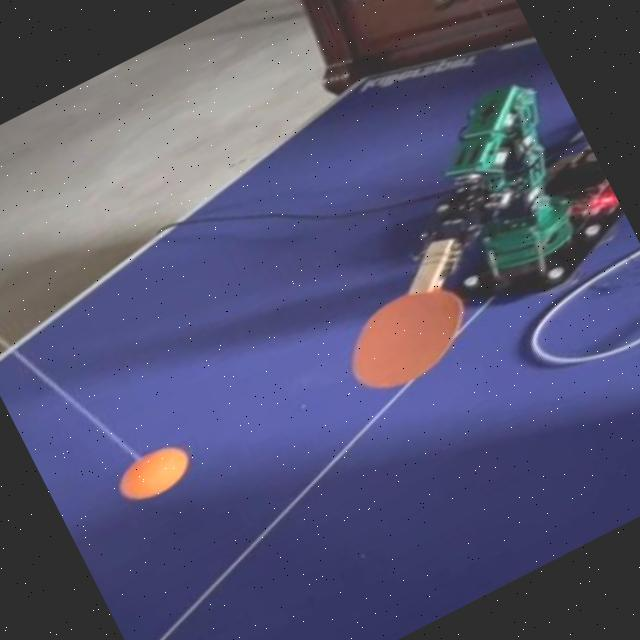ping-pong-ball: (112, 436, 195, 506)
